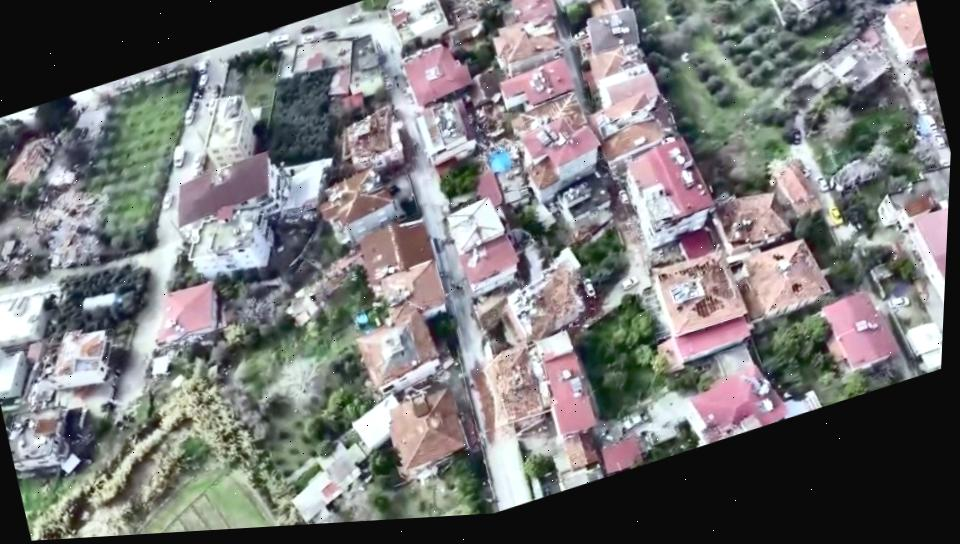kapali: (463, 344, 519, 459)
